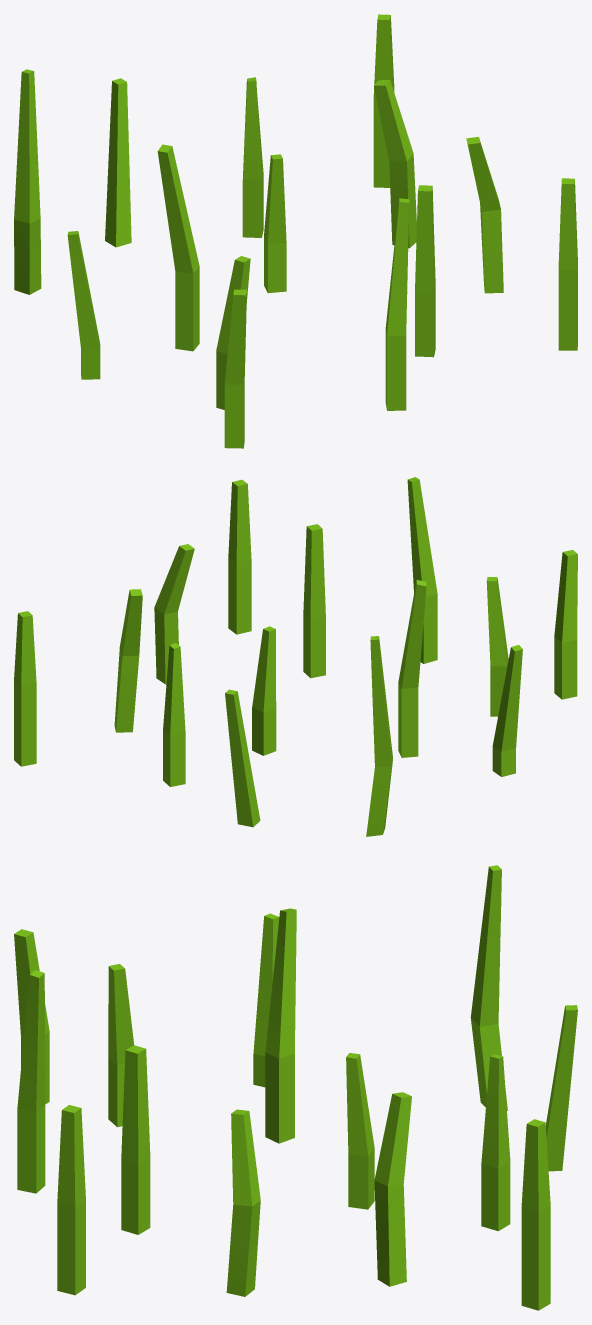
The model's file is wheatStage2.obj.
3 views of the same model, one above another, from view 1: azimuth 30°, elevation 25°; view 2: azimuth 150°, elevation 25°; view 3: azimuth 270°, elevation 25° (orthographic). The views are drawn at different scales.
Visible parts, largest first — view 1: Cube.014; view 2: Cube.014; view 3: Cube.014.
Boxes of the visible parts, x1=… form: Cube.014: x1=14, y1=14, x2=577, y2=448; Cube.014: x1=14, y1=477, x2=577, y2=836; Cube.014: x1=14, y1=865, x2=577, y2=1310.
Size of the model in its own units: 1.58 by 0.74 by 1.57.
